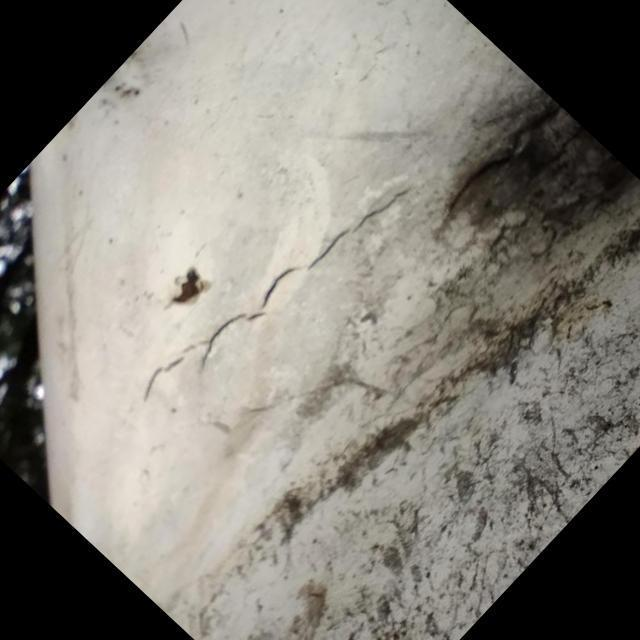defect: (138, 180, 419, 405)
